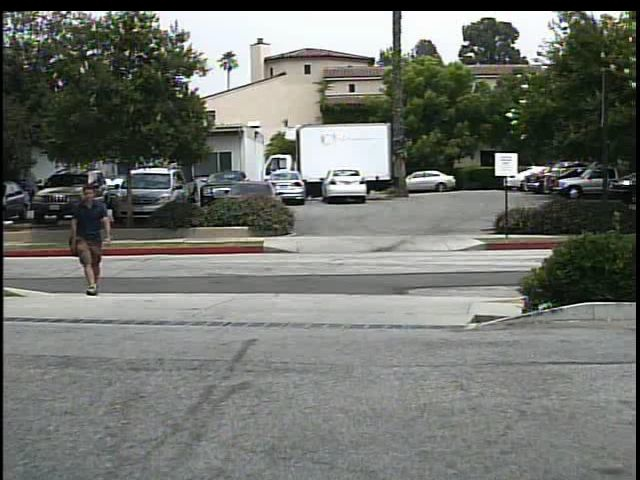person: (69, 183, 119, 297)
